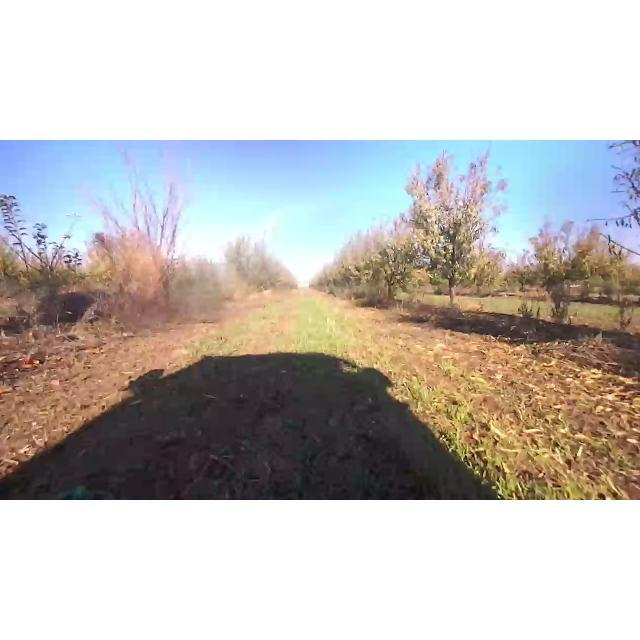direk: (76, 144, 204, 318), (394, 141, 512, 307), (520, 215, 614, 328), (0, 190, 76, 300), (220, 220, 282, 300), (367, 214, 418, 302)
